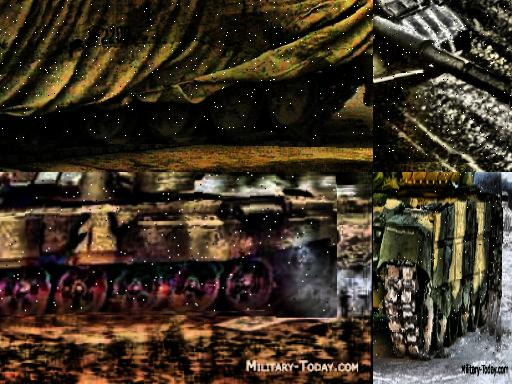tanks: (1, 1, 374, 140), (1, 173, 335, 312), (374, 173, 501, 356), (374, 1, 512, 103)
